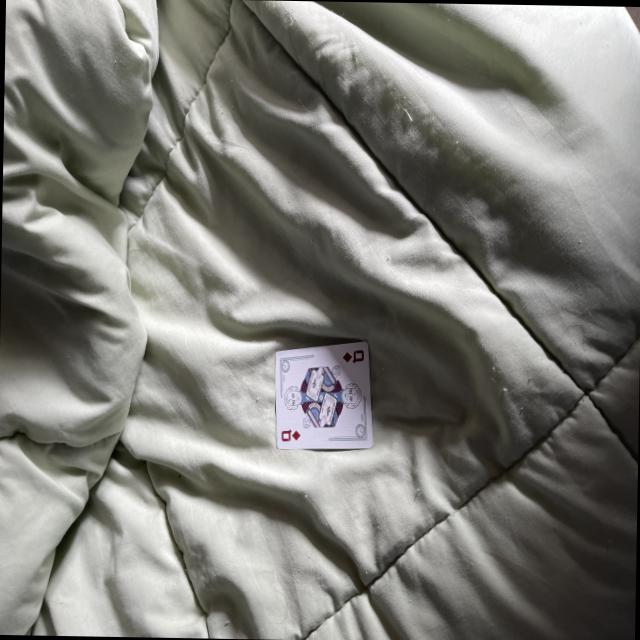Queen of diamonds: (276, 340, 373, 447)
